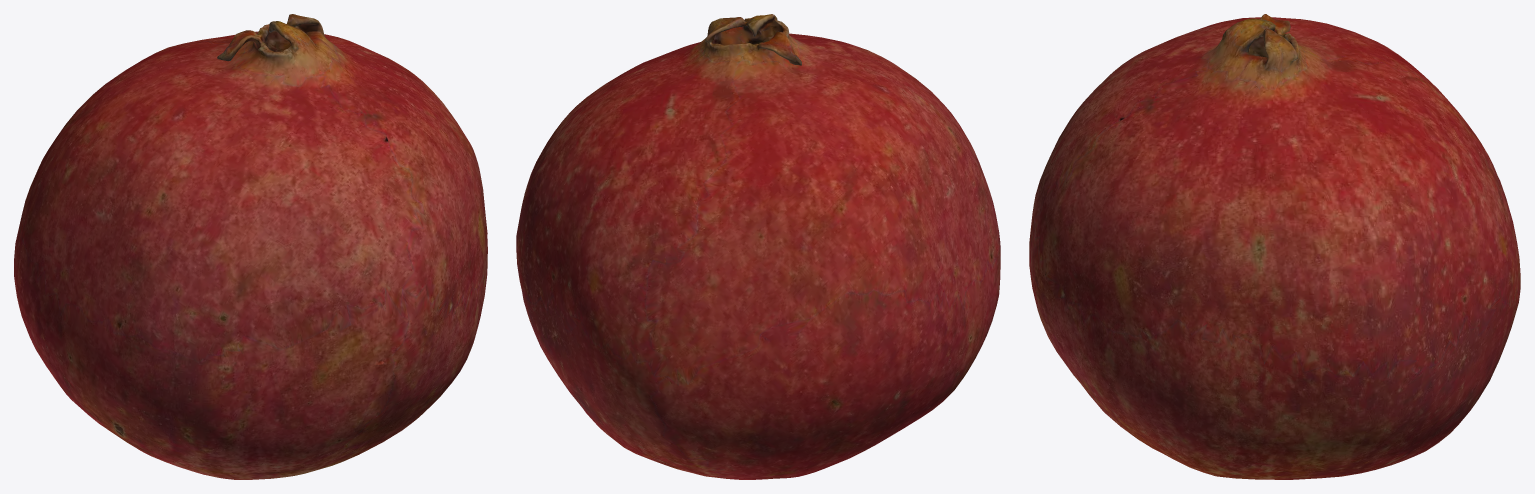
The model's file is food_pomegranate_01.glb.
The picture shows the model from 3 angles, left to right: view 1: azimuth 30°, elevation 25°; view 2: azimuth 150°, elevation 25°; view 3: azimuth 270°, elevation 25°; orthographic projection. The views are drawn at different scales.
Parts seen in each view (by area): view 1: food_pomegranate_01; view 2: food_pomegranate_01; view 3: food_pomegranate_01.
Boxes of the visible parts, x1=… form: food_pomegranate_01: x1=14, y1=14, x2=487, y2=479; food_pomegranate_01: x1=516, y1=14, x2=1000, y2=479; food_pomegranate_01: x1=1029, y1=14, x2=1520, y2=479.
Size of the model in its own units: 0.1143 by 0.115 by 0.1154.
1 material, 1 textured.
